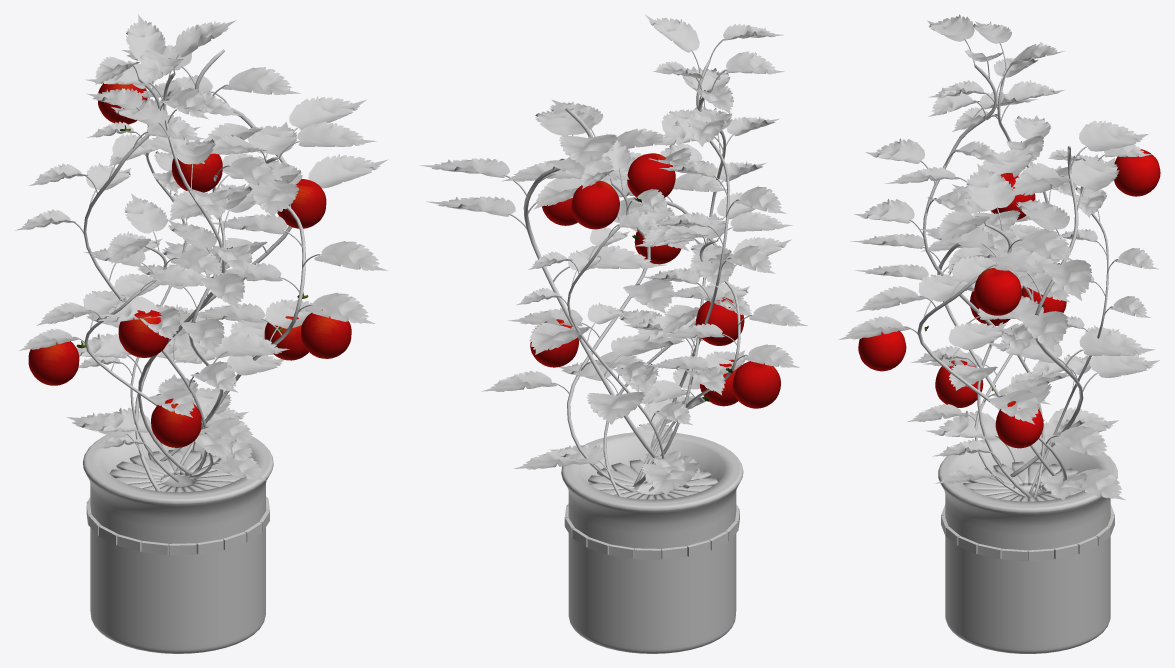
Rendered from tomatenplant.fbx.
The picture shows the model from 3 angles, left to right: view 1: azimuth 30°, elevation 25°; view 2: azimuth 150°, elevation 25°; view 3: azimuth 270°, elevation 25°; orthographic projection. The views are drawn at different scales.
Parts seen in each view (by area): view 1: Group47; view 2: Group47; view 3: Group47.
Boxes of the visible parts, box(x1,y1,x2,y2) form: Group47: box(15, 14, 388, 653); Group47: box(419, 14, 807, 653); Group47: box(838, 14, 1160, 653).
Bounding box in the file's own units: 18.3 × 27.87 × 14.2.
